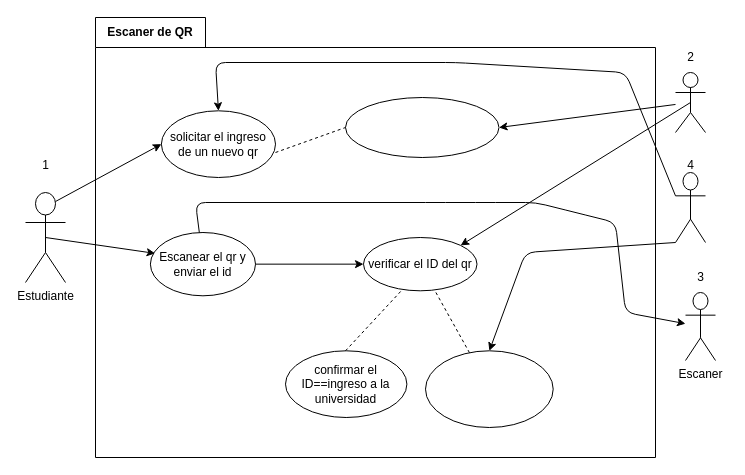
Image size: 745x475. Some labels were removed from this diagram. Each missing label, with the centre of its shape:
Administrador: [690,207]
Error en ek ID==no entra a la universidad: [488,389]
genrar y guardar nuevo id vinculado al qr: [421,127]
Sistema: [690,102]
